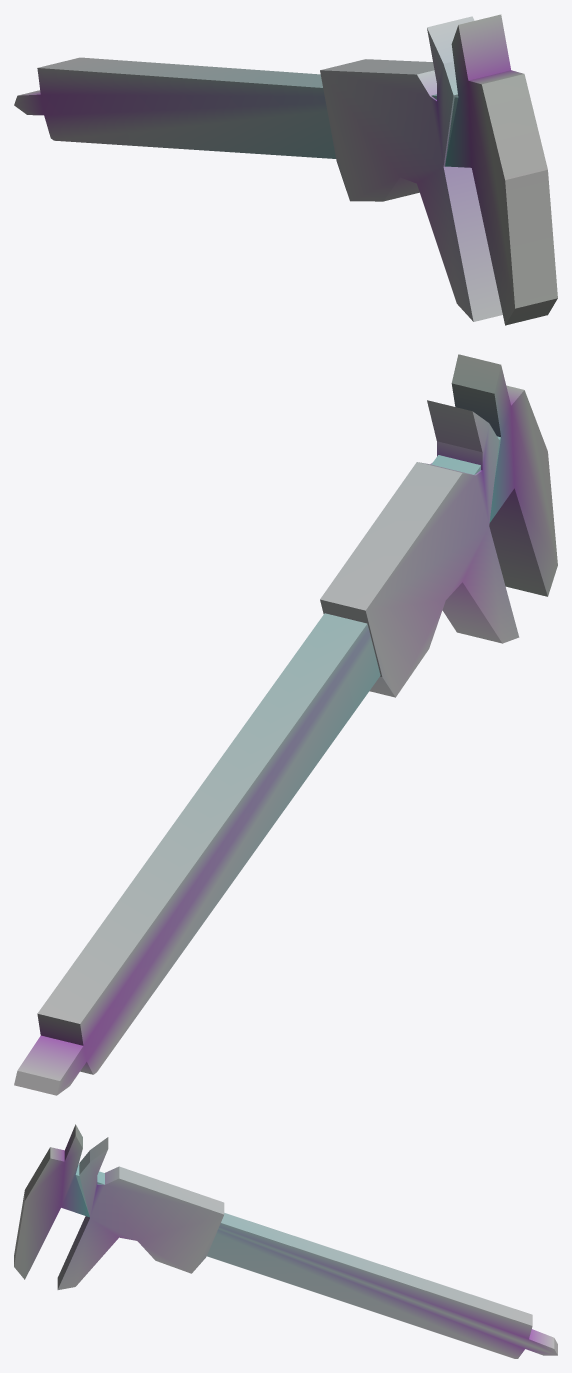
3 views of the same model, one above another, from view 1: azimuth 30°, elevation 25°; view 2: azimuth 150°, elevation 25°; view 3: azimuth 270°, elevation 25° (orthographic). The views are drawn at different scales.
Parts seen in each view (by area): view 1: beam, sliding_head, fixed_jaws; view 2: beam, sliding_head, fixed_jaws; view 3: beam, sliding_head, fixed_jaws.
Part boxes in pixels (x1,y1,x2,y2): beam: [14, 57, 458, 163]; sliding_head: [320, 16, 502, 321]; fixed_jaws: [445, 14, 557, 325]; beam: [14, 436, 500, 1095]; sliding_head: [320, 400, 519, 697]; fixed_jaws: [451, 354, 557, 596]; beam: [75, 1164, 557, 1358]; sliding_head: [57, 1137, 224, 1289]; fixed_jaws: [14, 1124, 89, 1279].
Bounding box in the file's own units: 0.0079 × 0.068 × 0.15.
